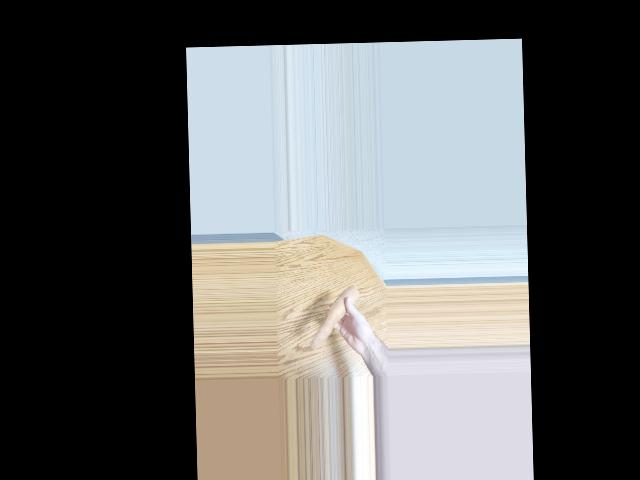sweet_potato: (310, 290, 361, 348)
